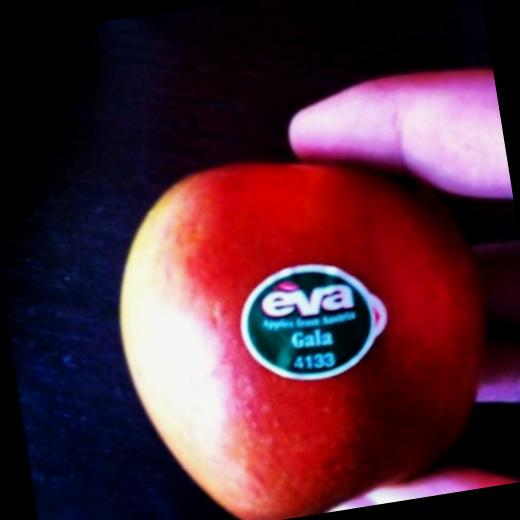Apple: (96, 124, 511, 520)
